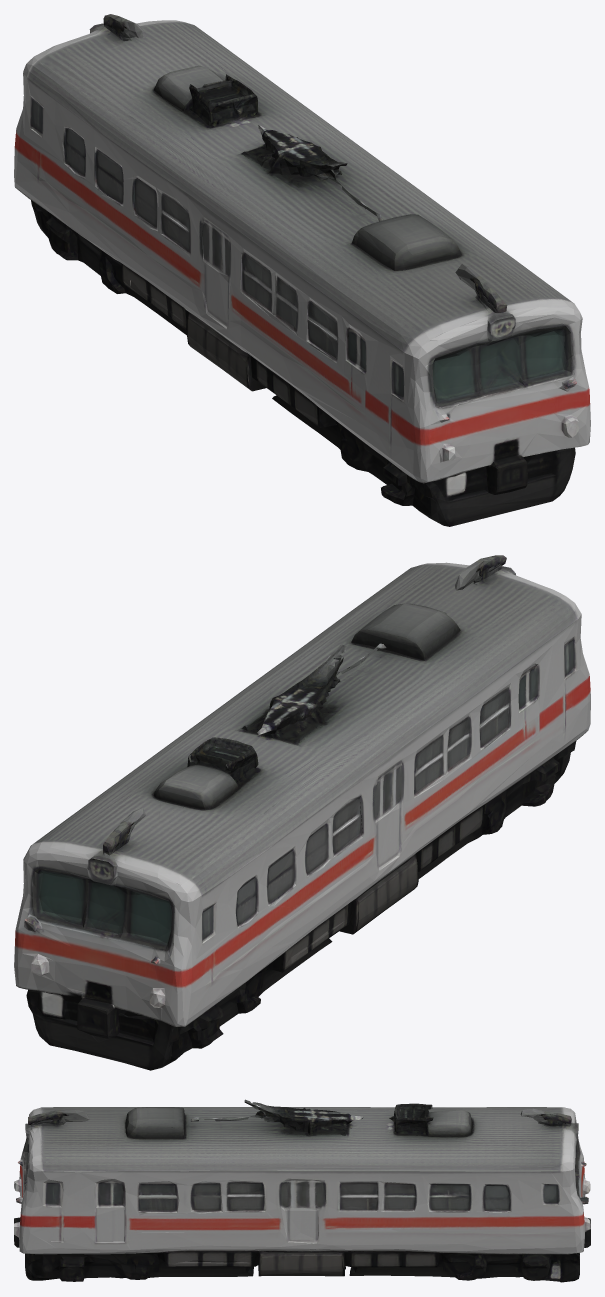
Rendered from densha.fbx.
3 renders of one model, top to bottom at view 1: azimuth 30°, elevation 25°; view 2: azimuth 150°, elevation 25°; view 3: azimuth 270°, elevation 25°, orthographic. The views are drawn at different scales.
Visible parts, largest first — view 1: geometry_0; view 2: geometry_0; view 3: geometry_0.
Part boxes in pixels (<box>): geometry_0: <box>14,14,590,526</box>; geometry_0: <box>14,555,590,1070</box>; geometry_0: <box>14,1099,590,1282</box>.
Bounding box in the file's own units: 31.05 × 24.08 × 99.8.
Materials: 1 (1 with a texture image).
